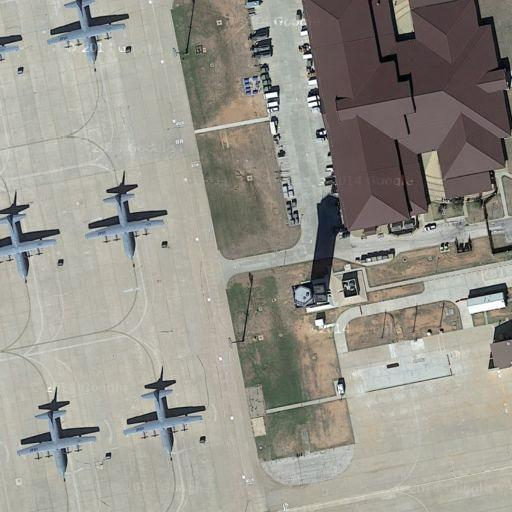C-130: (15, 407, 98, 476), (122, 388, 204, 456), (83, 192, 166, 259), (47, 2, 126, 58), (1, 210, 60, 276)
